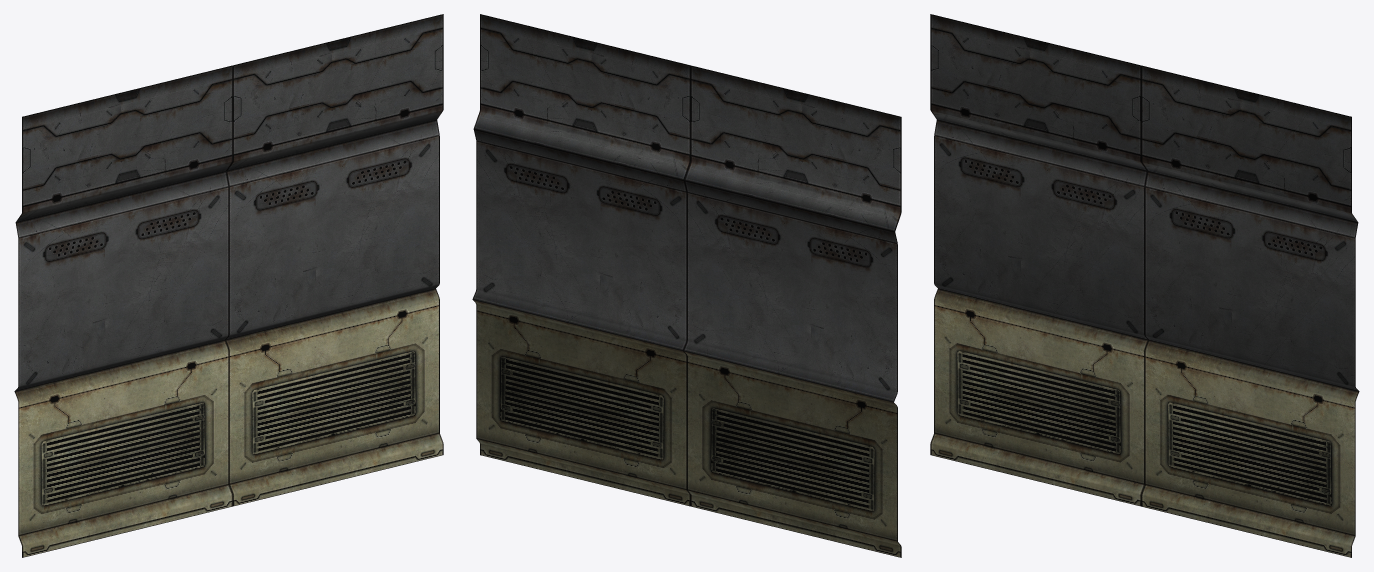
Rendered from living_area_flat02_vent.dae.
3 views of the same model, side by side, from view 1: azimuth 30°, elevation 25°; view 2: azimuth 150°, elevation 25°; view 3: azimuth 330°, elevation 25° (orthographic).
Parts seen in each view (by area): view 1: pPlane2; view 2: pPlane2; view 3: pPlane2.
Boxes of the visible parts, x1,y1,x2,y2 form: pPlane2: [14, 14, 443, 557]; pPlane2: [472, 14, 901, 557]; pPlane2: [930, 14, 1359, 557].
Bounding box in the file's own units: 4 × 4 × 0.125.
